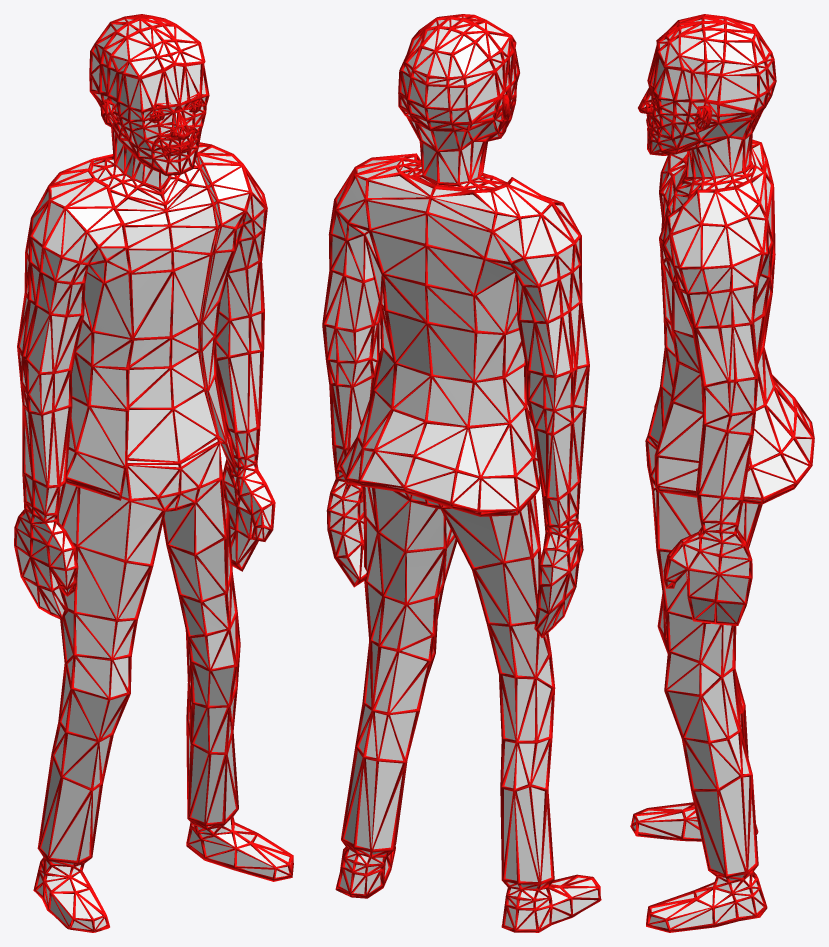
The model's file is elegantIdle_000022.obj.
3 views of the same model, side by side, from view 1: azimuth 30°, elevation 25°; view 2: azimuth 150°, elevation 25°; view 3: azimuth 270°, elevation 25° (orthographic). The views are drawn at different scales.
Parts seen in each view (by area): view 1: BaseHuman_Cylinder.002; view 2: BaseHuman_Cylinder.002; view 3: BaseHuman_Cylinder.002.
Boxes of the visible parts, x1,y1,x2,y2 form: BaseHuman_Cylinder.002: [14, 14, 293, 932]; BaseHuman_Cylinder.002: [322, 14, 601, 932]; BaseHuman_Cylinder.002: [630, 14, 814, 932].
Bounding box in the file's own units: 1.44 × 4.84 × 0.9501.
